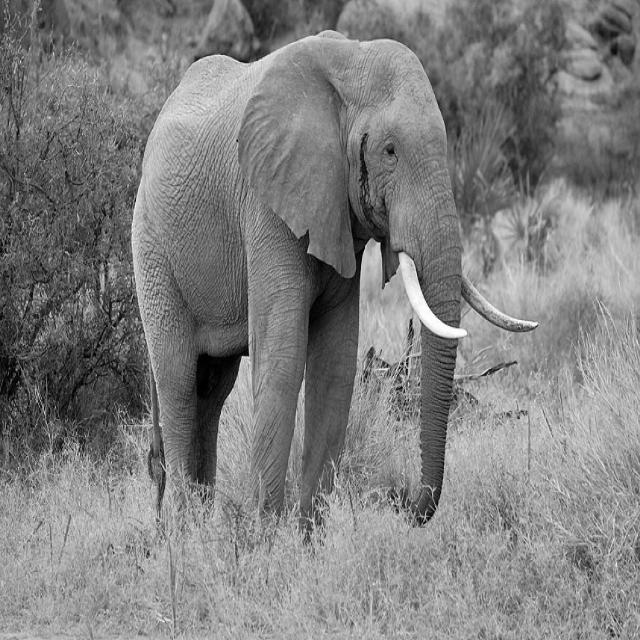Elephant: (130, 27, 538, 553)
